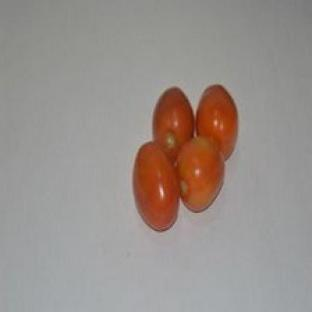Tomato: (133, 141, 179, 231), (177, 137, 224, 211), (152, 87, 194, 161), (197, 85, 238, 160)
